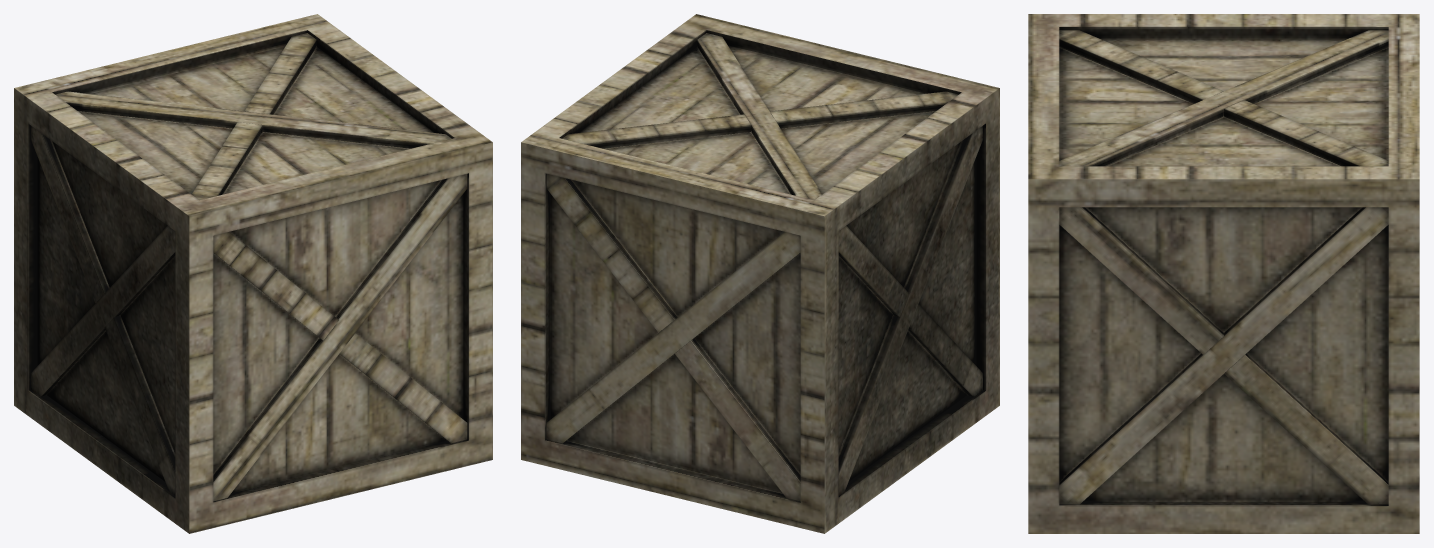
The model's file is WoodenCrate_T03.FBX.
The picture shows the model from 3 angles, left to right: view 1: azimuth 30°, elevation 25°; view 2: azimuth 150°, elevation 25°; view 3: azimuth 270°, elevation 25°; orthographic projection. The views are drawn at different scales.
Visible parts, largest first — view 1: WoodenCrate_T03; view 2: WoodenCrate_T03; view 3: WoodenCrate_T03.
Boxes of the visible parts, x1,y1,x2,y2 form: WoodenCrate_T03: (14, 14, 492, 533); WoodenCrate_T03: (521, 14, 999, 533); WoodenCrate_T03: (1028, 14, 1419, 533).
Bounding box in the file's own units: 75.55 × 75.55 × 75.55.
